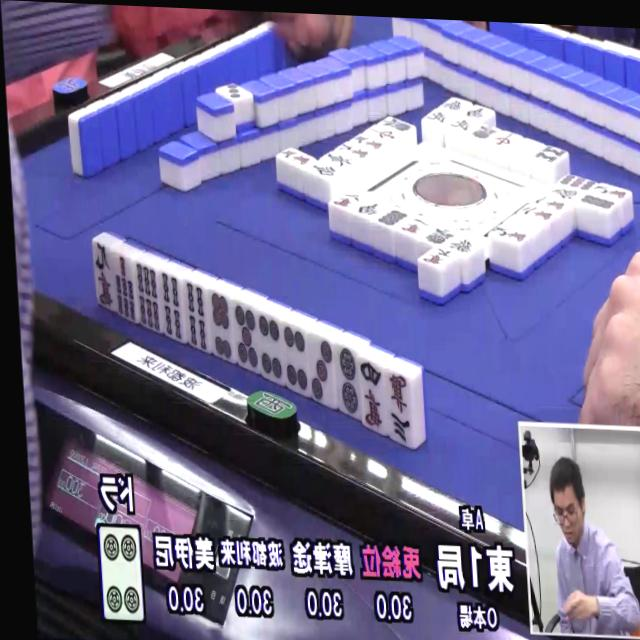m3: (380, 367, 417, 445)
m4: (356, 357, 389, 434)
m9: (89, 238, 116, 309)
s4: (181, 282, 213, 355), (155, 271, 186, 344)
s6: (130, 261, 162, 333)
s7: (110, 254, 138, 323)
t2: (331, 343, 363, 418)
t3: (303, 335, 339, 408)
t4: (95, 523, 146, 620), (279, 324, 313, 396), (255, 314, 287, 385)
t5: (229, 300, 262, 373)
t6: (204, 291, 236, 363)
